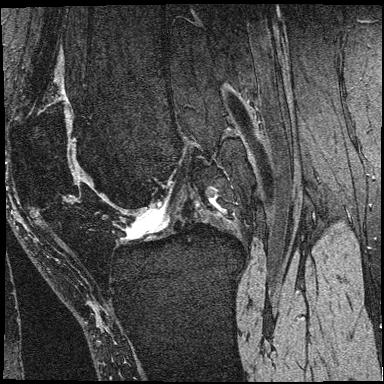SagKneeJointArea: (7, 99, 248, 317)
